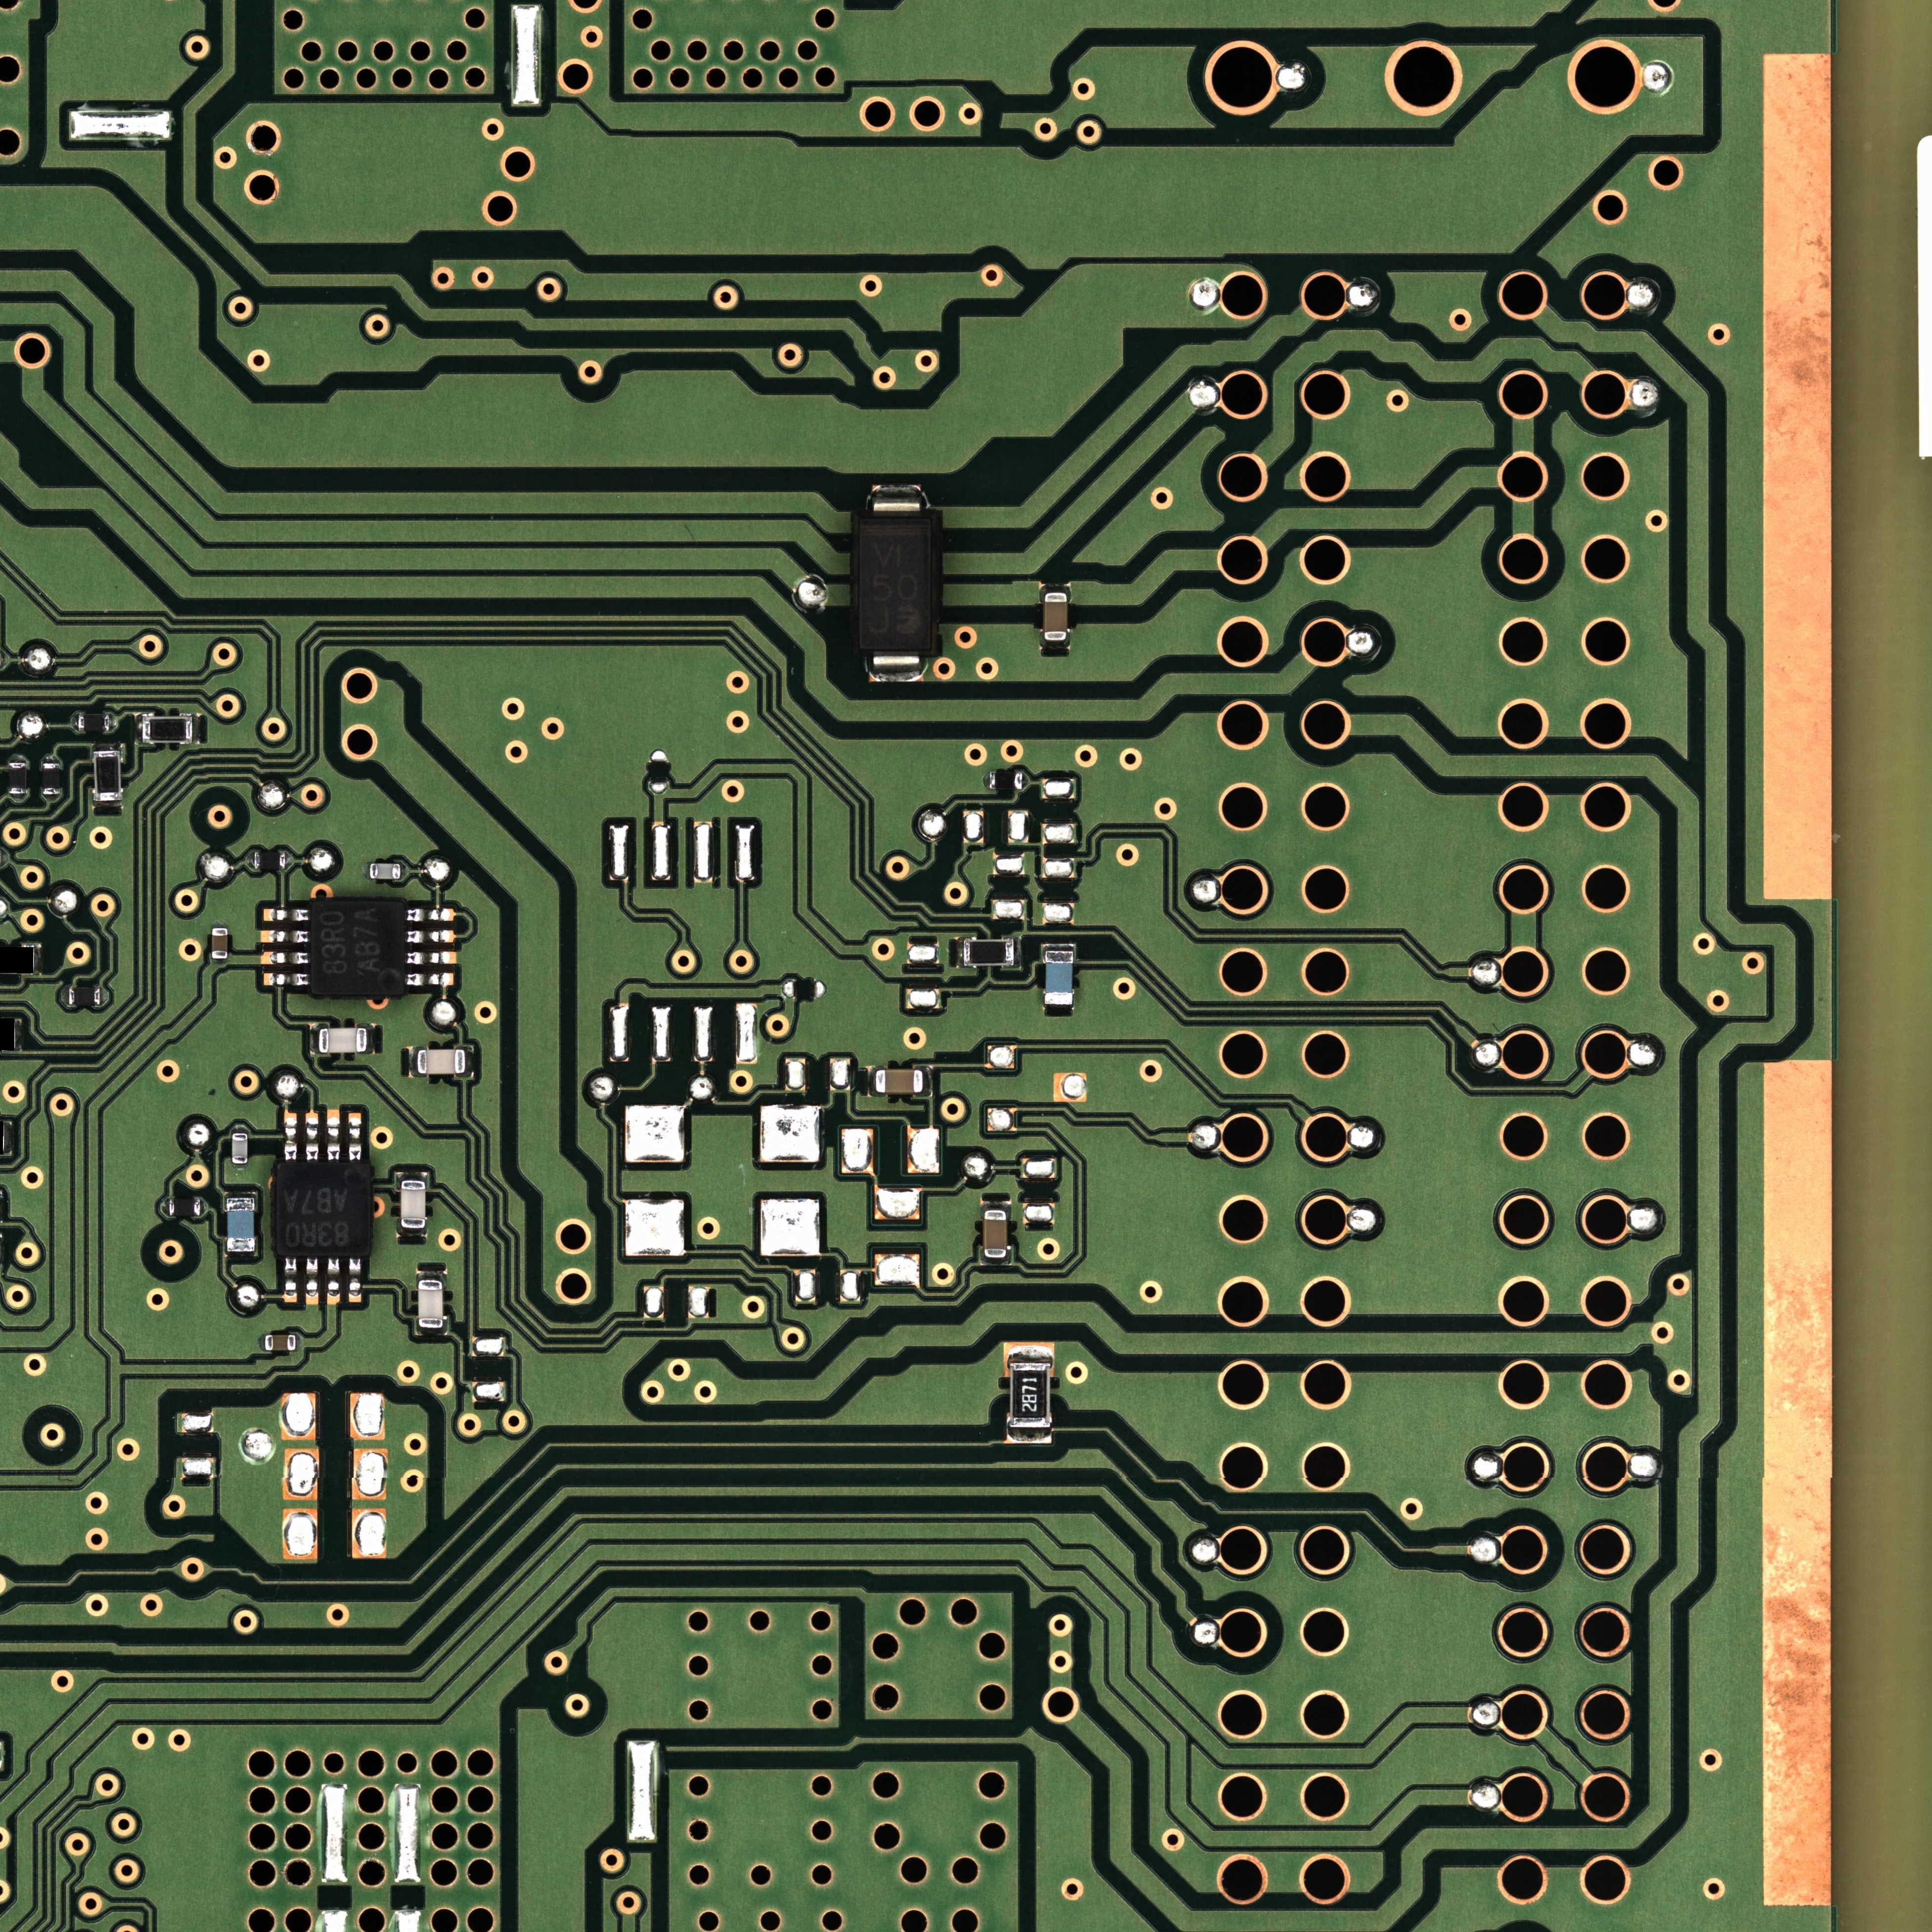Package: (859, 519, 930, 650), (310, 901, 404, 995), (277, 1163, 369, 1256), (1009, 1363, 1050, 1427), (1045, 951, 1073, 1005), (227, 1198, 254, 1252), (964, 940, 1014, 966), (143, 716, 192, 742), (95, 751, 120, 801), (417, 1049, 465, 1074), (319, 1028, 367, 1053), (401, 1181, 426, 1228), (875, 1069, 923, 1094), (419, 1280, 443, 1328), (1044, 593, 1067, 640), (983, 1210, 1007, 1257), (990, 772, 1022, 789), (254, 852, 286, 869), (69, 988, 100, 1005), (43, 763, 59, 794), (9, 763, 26, 793), (79, 715, 109, 731), (169, 1199, 200, 1216), (212, 928, 228, 959), (265, 1335, 295, 1351), (370, 863, 400, 879), (232, 1133, 247, 1163)
Solder: (869, 651, 924, 682), (870, 484, 922, 517), (1004, 1342, 1054, 1362), (1007, 1428, 1052, 1444), (407, 951, 457, 965), (327, 1110, 340, 1161), (261, 951, 309, 966), (261, 929, 309, 944), (406, 972, 454, 987), (406, 908, 455, 922), (284, 1111, 297, 1161), (305, 1110, 319, 1161), (263, 972, 309, 987), (407, 929, 455, 944), (305, 1257, 319, 1305), (348, 1112, 362, 1161), (327, 1257, 340, 1304), (263, 908, 309, 922), (284, 1257, 297, 1304), (348, 1257, 362, 1303), (1040, 583, 1070, 593), (923, 1066, 932, 1097), (310, 1024, 319, 1056), (981, 1201, 1011, 1210), (980, 1257, 1012, 1266), (417, 1271, 446, 1280), (416, 1327, 447, 1336), (1014, 937, 1022, 968), (5, 1122, 13, 1155), (956, 937, 964, 968), (397, 1228, 427, 1237), (409, 1047, 417, 1077), (868, 1066, 876, 1097), (466, 1046, 474, 1077), (224, 1189, 256, 1197), (397, 1172, 427, 1180), (1040, 641, 1070, 649), (192, 714, 200, 744), (135, 714, 143, 744), (1042, 944, 1075, 951), (367, 1024, 375, 1054), (92, 742, 120, 750), (35, 944, 42, 973), (93, 801, 122, 808), (226, 1252, 256, 1258), (1044, 1004, 1073, 1011), (15, 1019, 22, 1049), (42, 754, 61, 763), (8, 794, 28, 802), (212, 959, 230, 967), (360, 862, 369, 879), (257, 1333, 265, 1352), (211, 919, 229, 927), (41, 795, 60, 803), (296, 1334, 304, 1352), (246, 852, 254, 869), (61, 988, 69, 1005), (8, 755, 27, 762), (402, 863, 409, 881), (231, 1125, 248, 1133), (100, 988, 107, 1006), (162, 1199, 169, 1216), (982, 772, 990, 789), (110, 715, 118, 731), (286, 852, 293, 869), (232, 1163, 248, 1170), (1022, 773, 1029, 789), (70, 714, 78, 729), (200, 1199, 206, 1216)
